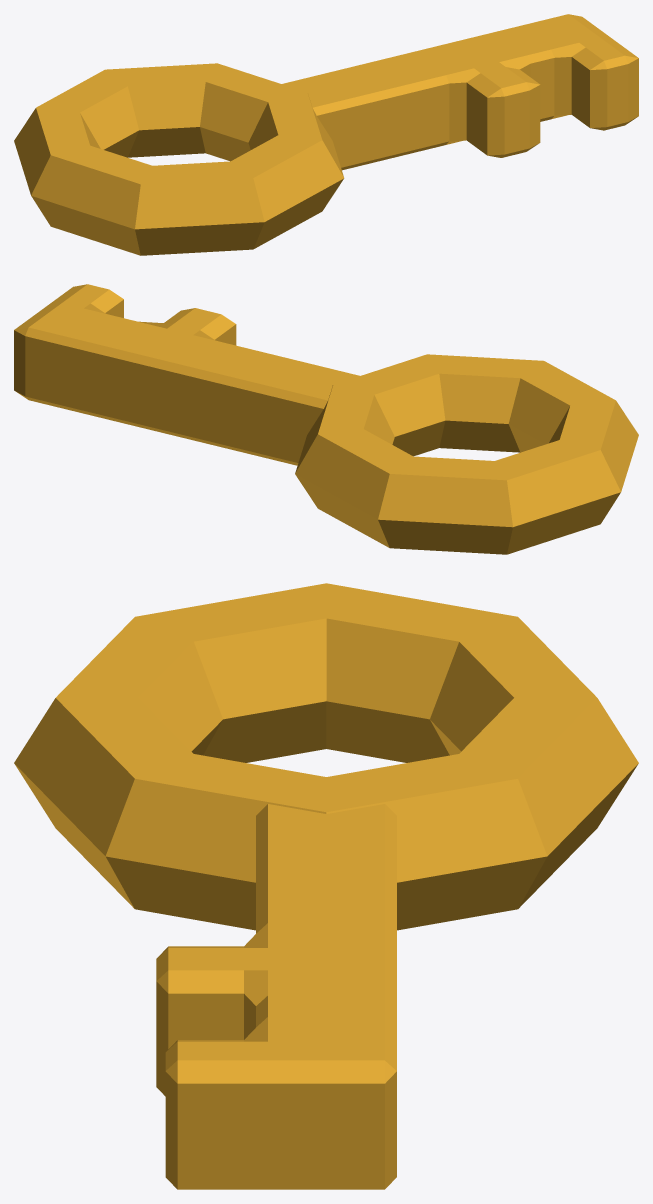
The model's file is Key.fbx.
3 views of the same model, one above another, from view 1: azimuth 30°, elevation 25°; view 2: azimuth 150°, elevation 25°; view 3: azimuth 270°, elevation 25° (orthographic). The views are drawn at different scales.
Visible parts, largest first — view 1: Cube; view 2: Cube; view 3: Cube.
Boxes of the visible parts, bbox=[...] form: Cube: bbox=[14, 14, 638, 255]; Cube: bbox=[14, 284, 638, 554]; Cube: bbox=[14, 583, 638, 1189].
Size of the model in its own units: 532 by 64.09 by 278.
